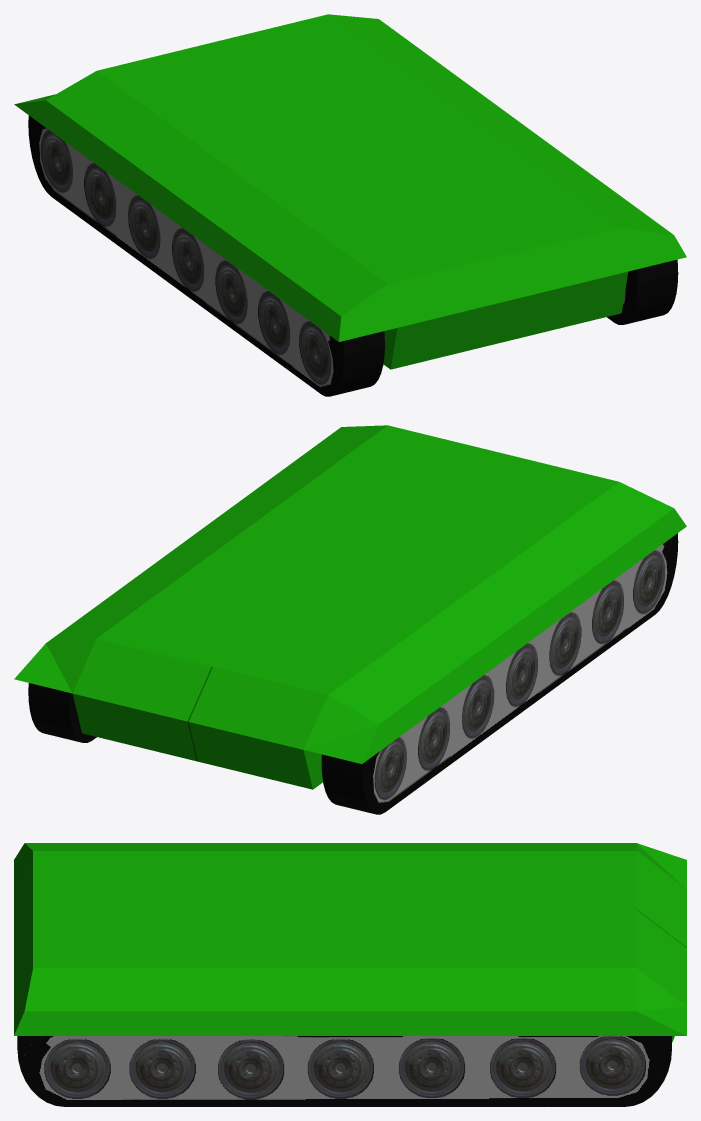
Rendered from tank_bottom.obj.
The picture shows the model from 3 angles, top to bottom: view 1: azimuth 30°, elevation 25°; view 2: azimuth 150°, elevation 25°; view 3: azimuth 270°, elevation 25°; orthographic projection. The views are drawn at different scales.
Parts seen in each view (by area): view 1: Circle; view 2: Circle; view 3: Circle.
Part boxes in pixels (x1=…): Circle: x1=14, y1=14, x2=686, y2=396; Circle: x1=14, y1=425, x2=686, y2=814; Circle: x1=14, y1=843, x2=686, y2=1106.
Size of the model in its own units: 0.6186 by 0.1854 by 0.9996.
1 material, 1 textured.
